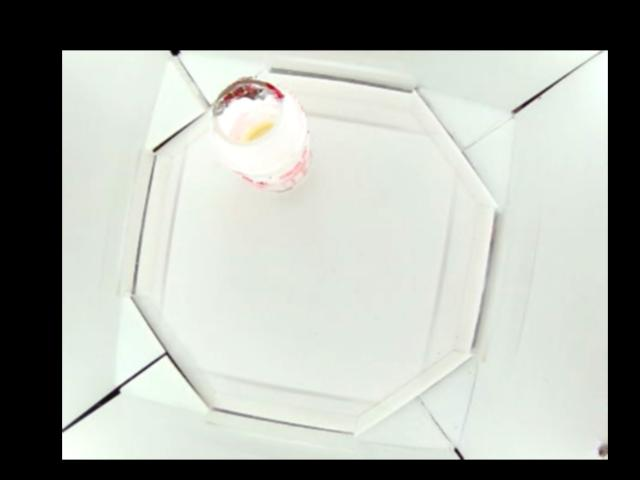Bottle: (208, 73, 311, 193)
